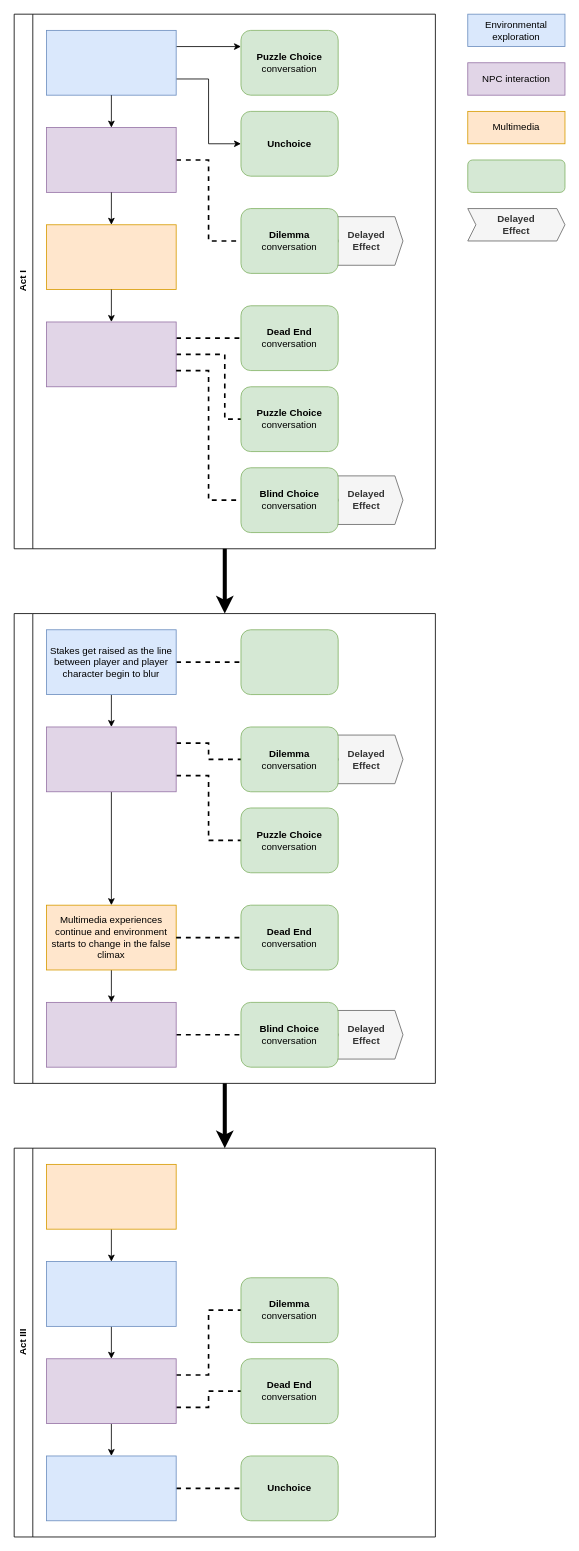
This 579x1551 diagram has some shape labels left out. Each missing label, with the box of its shape:
A bunch of NPC interactions all at once for a sudden climax: (46, 1358, 176, 1424)
Act II: (13, 613, 435, 1083)
Choice types: (467, 159, 565, 192)
Environmental exploration denouement: (46, 1455, 176, 1521)
False Choice conversation: (240, 629, 338, 695)
Interaction with a final NPC: (46, 1002, 176, 1067)
Interaction with first NPC as inciting action: (46, 127, 176, 192)
Interactions with 1-2 NPCs: (46, 726, 176, 792)
Interactions with 1-2 other NPCs: (46, 321, 176, 387)
No NPC interactions for a while: (46, 1261, 176, 1326)
Simple tutorial and environmental exploration: (46, 30, 176, 95)
Slow environmental exploration and mild multimedia: (46, 1164, 176, 1229)
Starting to introduce game’s themes with dialogue and multimedia: (46, 224, 176, 290)
